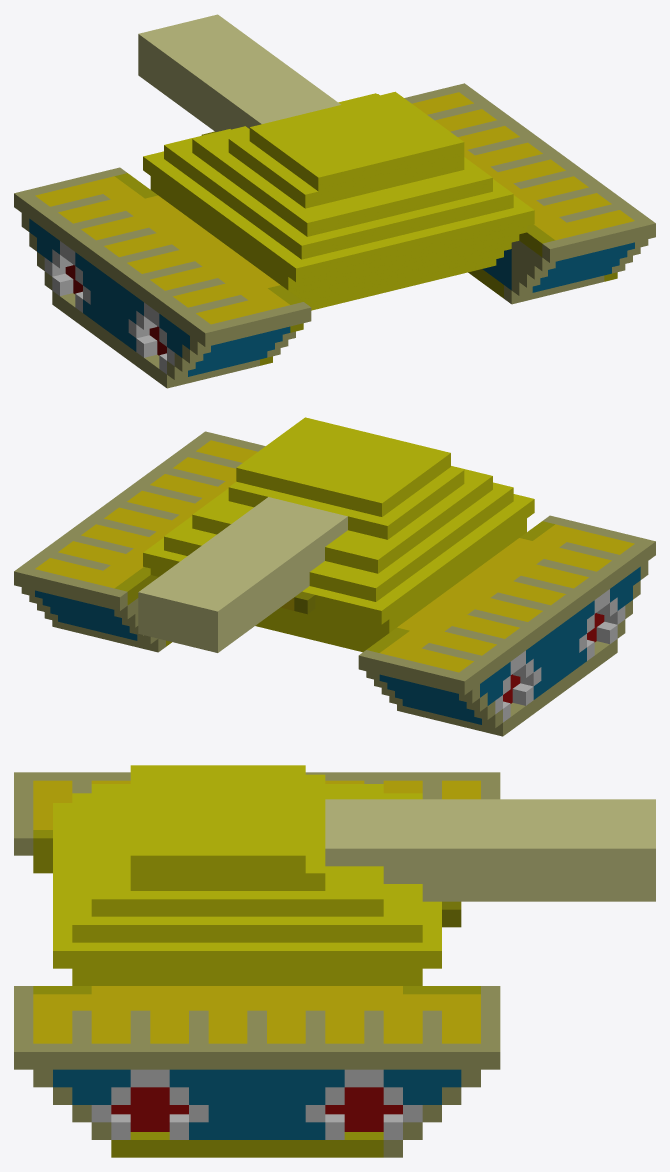
File: battle_city_tank.glb
The picture shows the model from 3 angles, top to bottom: view 1: azimuth 30°, elevation 25°; view 2: azimuth 150°, elevation 25°; view 3: azimuth 270°, elevation 25°; orthographic projection. The views are drawn at different scales.
Visible parts, largest first — view 1: Geode; view 2: Geode; view 3: Geode.
Part boxes in pixels (left/top/right/bottom): Geode: left=14, top=14, right=655, bottom=388; Geode: left=14, top=417, right=655, bottom=736; Geode: left=14, top=765, right=655, bottom=1157.
Size of the model in its own units: 34 by 12 by 33.
